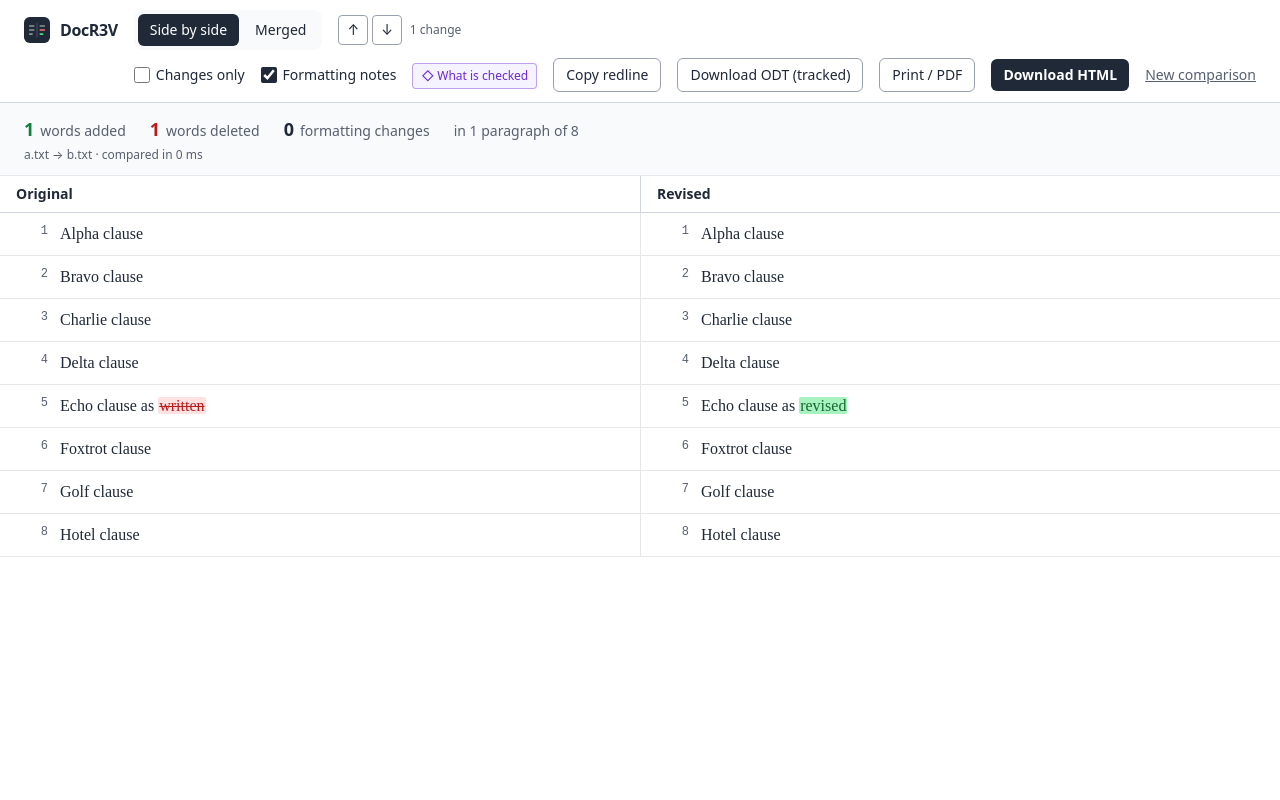
comparison screen › hides paragraphs far from any change but keeps the ones either side
Click the checkbox labelled "Changes only" at (142, 75), box [134,67,150,83]
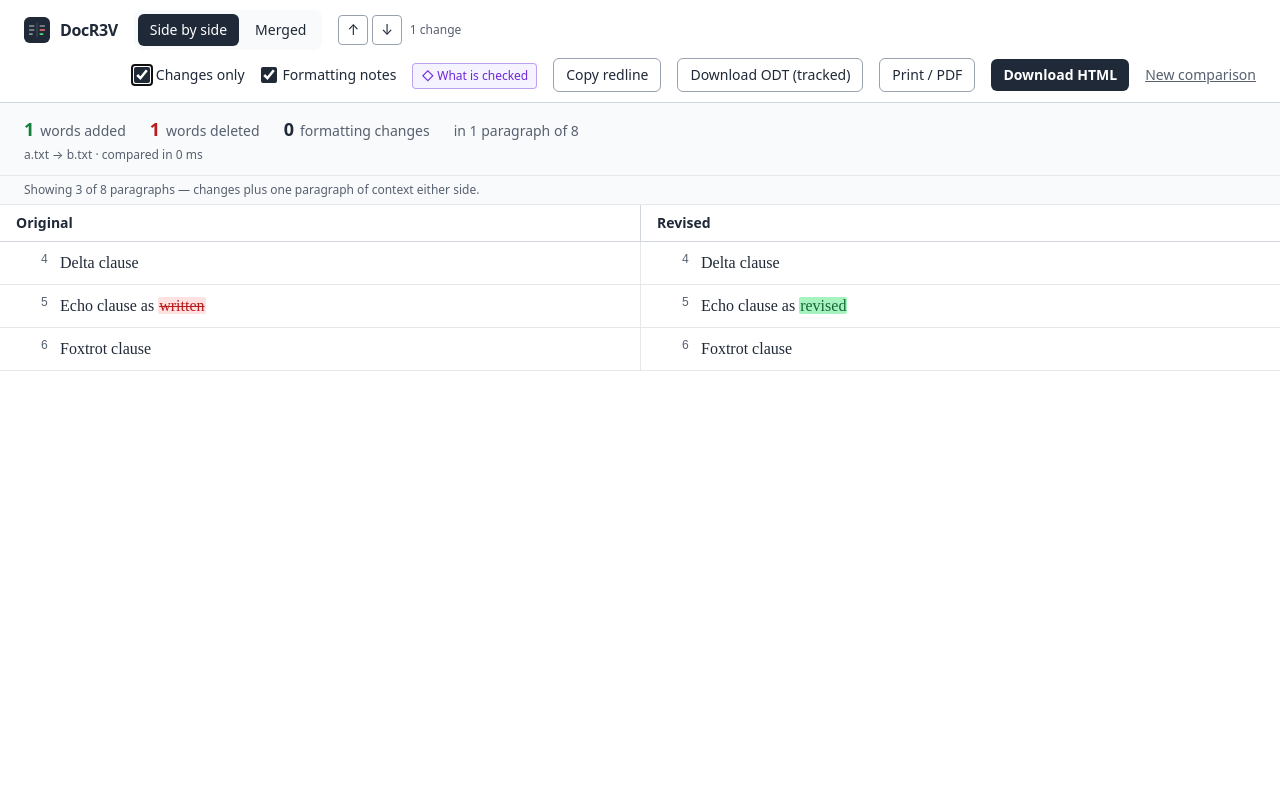
Expected: the text "Showing 3 of 8 paragraphs" is shown, [0,176,1279,205]
